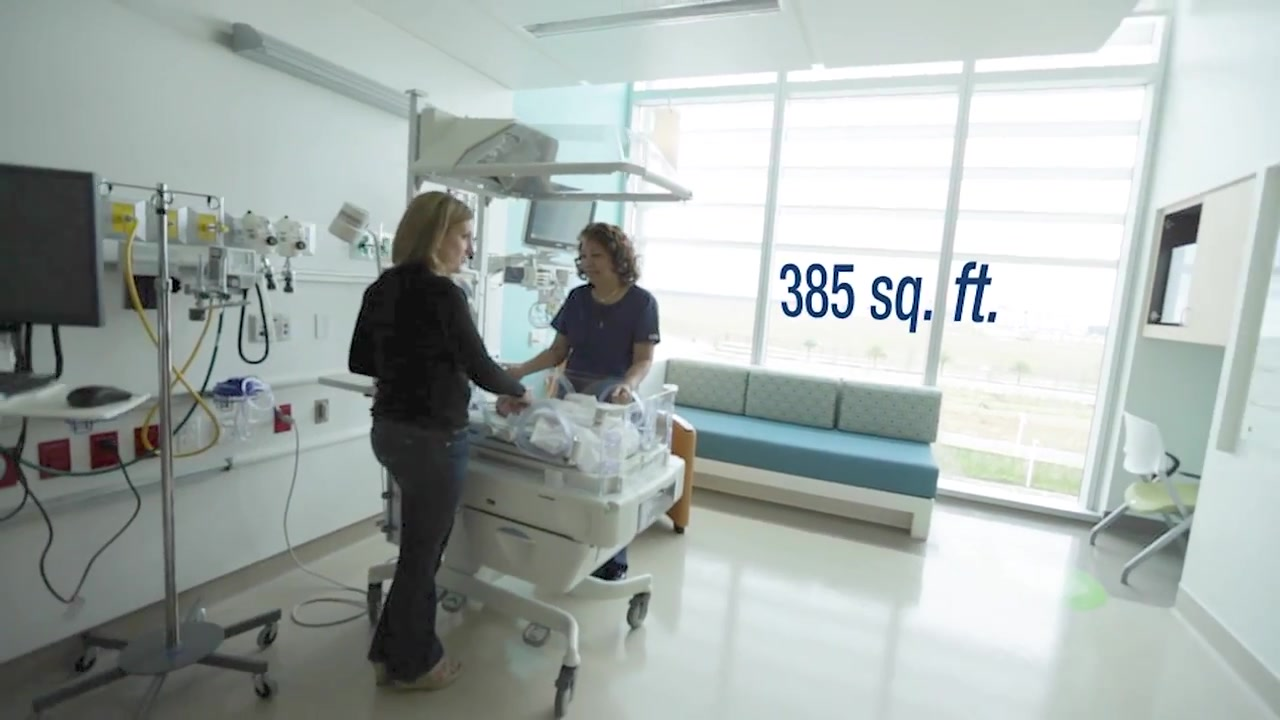bedside_monitor: (526, 187, 597, 250)
cabinet: (1143, 166, 1265, 348)
chair: (1089, 407, 1203, 587)
computer: (1, 162, 100, 325)
iv_pole: (99, 178, 223, 648)
panda_baby_warmer: (361, 112, 682, 720)
sofa: (666, 358, 942, 540)
staff: (511, 222, 661, 409)
visitor: (350, 192, 519, 695)
